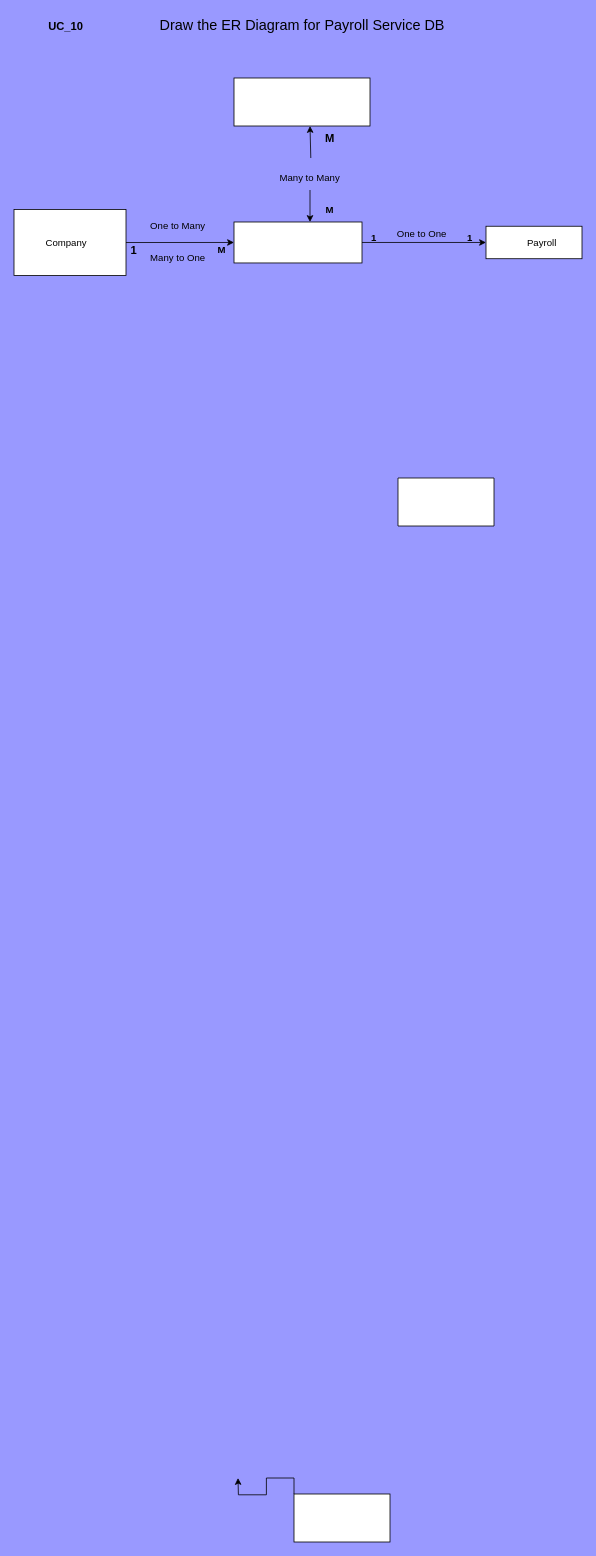
Some shapes in this 596 by 1556 pixel diagram are drawn without their labels. Here are the shapes that lost their labels. From the top down, the centre of each, then its label:
the point at 301,101: Department
the point at 297,242: Employees
